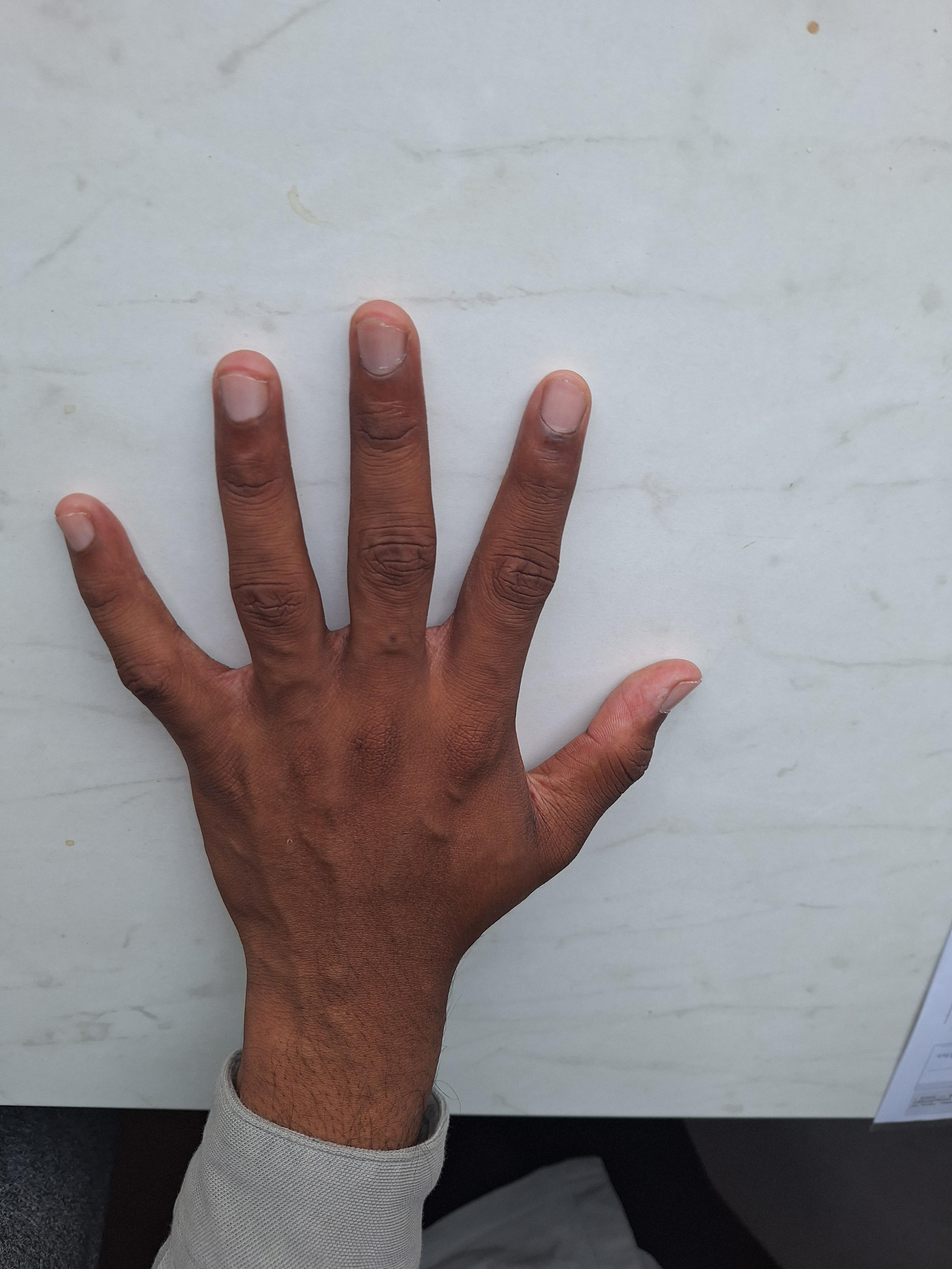Fingernail: (356, 320, 407, 376), (541, 379, 587, 434), (220, 374, 269, 422), (56, 514, 96, 553), (660, 680, 701, 713)
